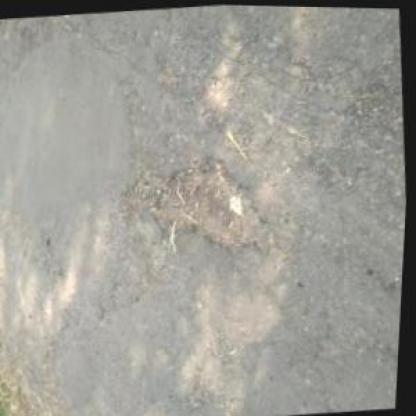pothole: (112, 141, 286, 269)
